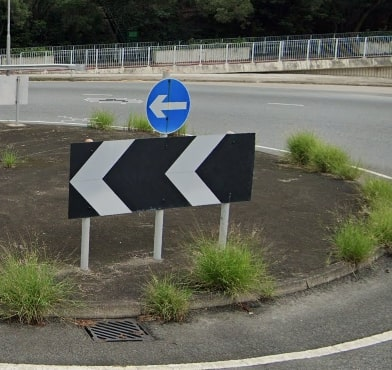Turn Left: (144, 80, 190, 129)
Turn Left(quick): (70, 132, 257, 220)
